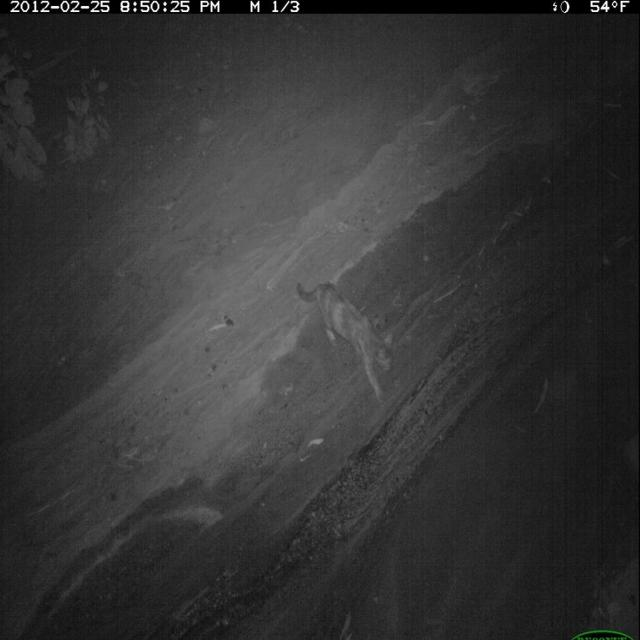cat: (295, 278, 398, 405)
